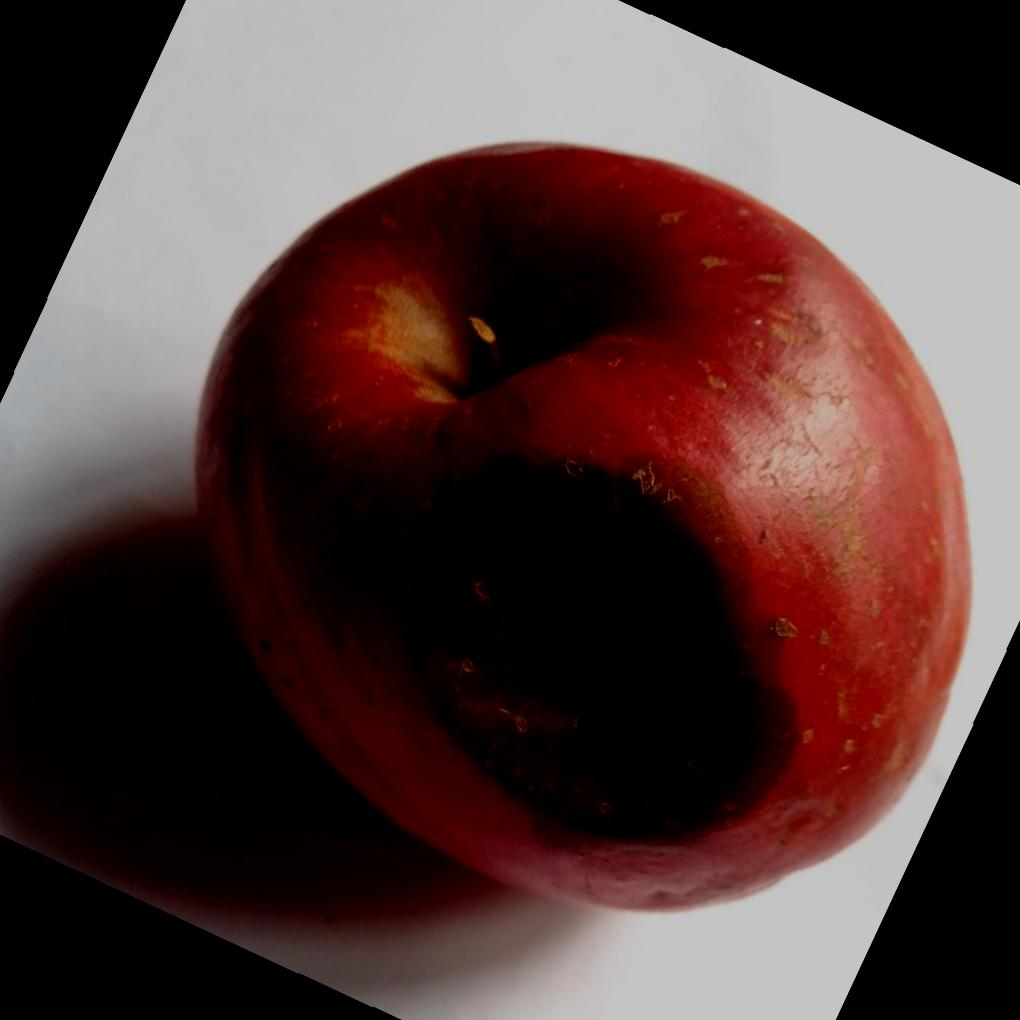FreshOrange: (192, 140, 972, 917)
